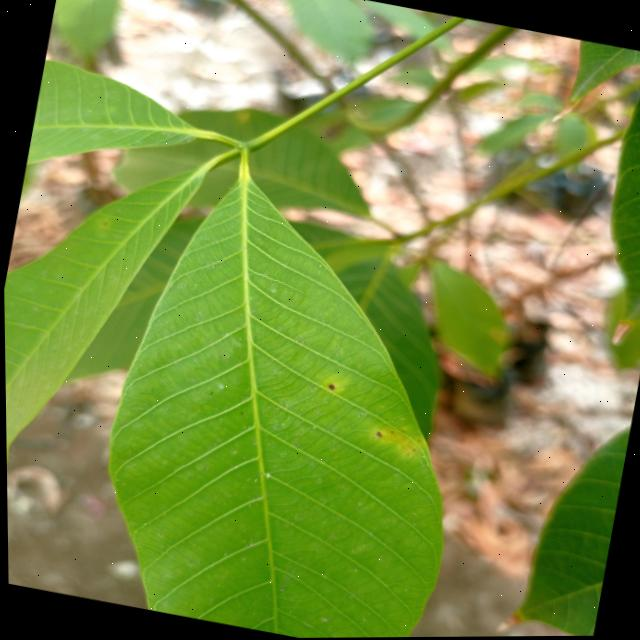Colletotrichum: (327, 385, 334, 391)
